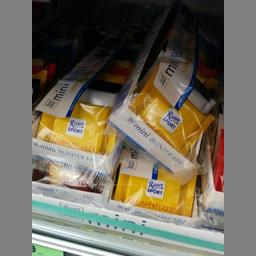chocolate: (31, 48, 127, 166), (128, 26, 213, 156)
